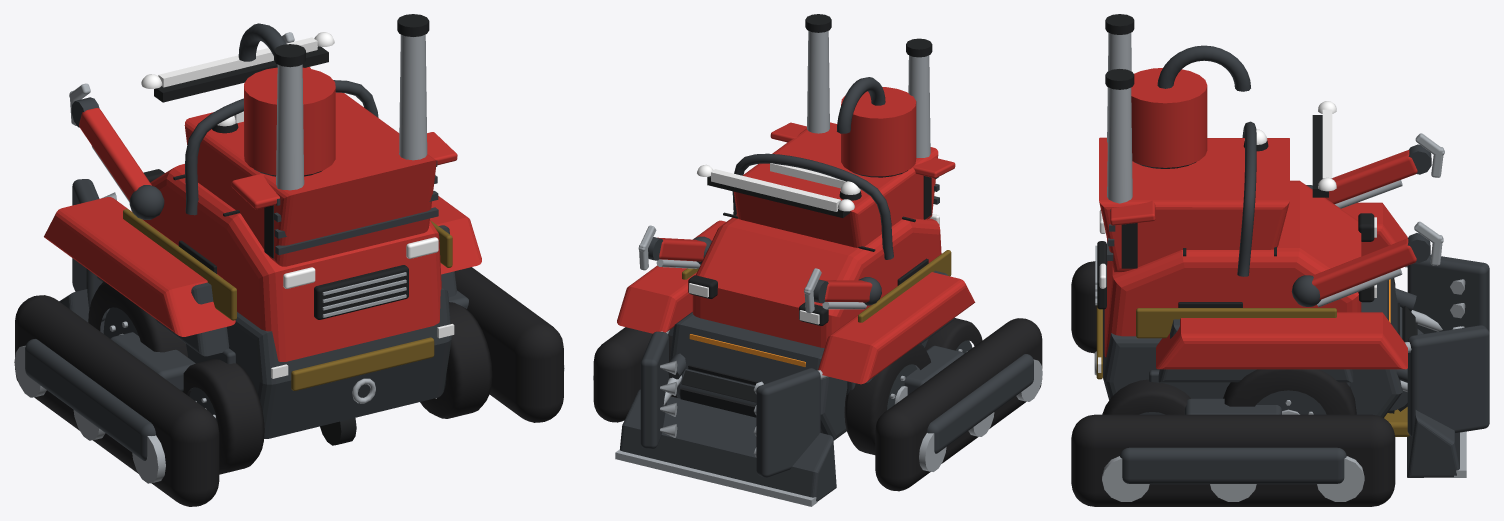
File: Machine_racer_T5.glb
The picture shows the model from 3 angles, left to right: view 1: azimuth 30°, elevation 25°; view 2: azimuth 150°, elevation 25°; view 3: azimuth 270°, elevation 25°; orthographic projection. The views are drawn at different scales.
Visible parts, largest first — view 1: Tier2_Parts_MAT_Player_Shell_18, Tier4_Parts_MAT_tread_39, Tier1_Parts_MAT_Player_Shell_9, Tier1_Parts_MAT_Player_Gunmetal_8, Axle_Rear_MAT_tread_14, Tier4_Parts_MAT_steel_41, Tier4_Parts_MAT_Player_Gunmetal_40, Cyclone_Drum_38, Tier1_Parts_MAT_darkTrim_10, Tier4_Parts_MAT_darkTrim_43, Tier1_Parts_MAT_Player_Hazard_12, Tier3_Parts_MAT_Player_Gunmetal_33 (+10 smaller); view 2: Tier2_Parts_MAT_Player_Shell_18, Tier1_Parts_MAT_Player_Shell_9, Tier4_Parts_MAT_tread_39, Tier2_Parts_MAT_Player_Gunmetal_19, Tier1_Parts_MAT_Player_Gunmetal_8, Tier4_Parts_MAT_Player_Gunmetal_40, Jaw_L_Plate_34, Tier4_Parts_MAT_steel_41, Cyclone_Drum_38, Axle_Front_MAT_tread_5, Jaw_R_Plate_36, Tier3_Parts_MAT_Player_Gunmetal_33 (+13 smaller); view 3: Tier2_Parts_MAT_Player_Shell_18, Tier4_Parts_MAT_tread_39, Tier1_Parts_MAT_Player_Shell_9, Tier4_Parts_MAT_Player_Gunmetal_40, Jaw_R_Plate_36, Tier1_Parts_MAT_Player_Gunmetal_8, Cyclone_Drum_38, Tier4_Parts_MAT_steel_41, Jaw_L_Plate_34, Axle_Front_MAT_tread_5, Tier2_Parts_MAT_Player_Gunmetal_19, Tier3_Parts_MAT_Player_Gunmetal_33 (+19 smaller).
Boxes of the visible parts, x1,y1,x2,y2 form: Tier2_Parts_MAT_Player_Shell_18: [44, 92, 481, 336]; Tier4_Parts_MAT_tread_39: [15, 267, 563, 506]; Tier1_Parts_MAT_Player_Shell_9: [143, 132, 457, 361]; Tier1_Parts_MAT_Player_Gunmetal_8: [97, 225, 456, 438]; Axle_Rear_MAT_tread_14: [183, 302, 492, 474]; Tier4_Parts_MAT_steel_41: [14, 34, 564, 483]; Tier4_Parts_MAT_Player_Gunmetal_40: [25, 23, 468, 460]; Cyclone_Drum_38: [244, 67, 335, 175]; Tier1_Parts_MAT_darkTrim_10: [143, 169, 408, 445]; Tier4_Parts_MAT_darkTrim_43: [154, 14, 429, 102]; Tier1_Parts_MAT_Player_Hazard_12: [291, 337, 434, 390]; Tier3_Parts_MAT_Player_Gunmetal_33: [185, 80, 378, 363]; Tier2_Parts_MAT_Player_Shell_18: [617, 122, 975, 384]; Tier1_Parts_MAT_Player_Shell_9: [692, 122, 955, 348]; Tier4_Parts_MAT_tread_39: [593, 318, 1042, 491]; Tier2_Parts_MAT_Player_Gunmetal_19: [620, 177, 939, 501]; Tier1_Parts_MAT_Player_Gunmetal_8: [668, 270, 954, 440]; Tier4_Parts_MAT_Player_Gunmetal_40: [837, 77, 1033, 453]; Jaw_L_Plate_34: [756, 368, 820, 477]; Tier4_Parts_MAT_steel_41: [593, 31, 1042, 471]; Cyclone_Drum_38: [841, 87, 916, 176]; Axle_Front_MAT_tread_5: [668, 335, 930, 454]; Jaw_R_Plate_36: [640, 331, 668, 448]; Tier3_Parts_MAT_Player_Gunmetal_33: [732, 153, 928, 394]; Tier2_Parts_MAT_Player_Shell_18: [1099, 137, 1407, 369]; Tier4_Parts_MAT_tread_39: [1071, 261, 1395, 506]; Tier1_Parts_MAT_Player_Shell_9: [1104, 180, 1361, 357]; Tier4_Parts_MAT_Player_Gunmetal_40: [1120, 45, 1346, 484]; Jaw_R_Plate_36: [1407, 325, 1489, 436]; Tier1_Parts_MAT_Player_Gunmetal_8: [1103, 278, 1402, 417]; Cyclone_Drum_38: [1131, 68, 1207, 167]; Tier4_Parts_MAT_steel_41: [1102, 32, 1364, 501]; Jaw_L_Plate_34: [1407, 254, 1489, 333]; Axle_Front_MAT_tread_5: [1223, 369, 1356, 414]; Tier2_Parts_MAT_Player_Gunmetal_19: [1107, 210, 1459, 477]; Tier3_Parts_MAT_Player_Gunmetal_33: [1149, 121, 1349, 398].
Bounding box in the file's own units: 1.34 × 1.29 × 1.29.
